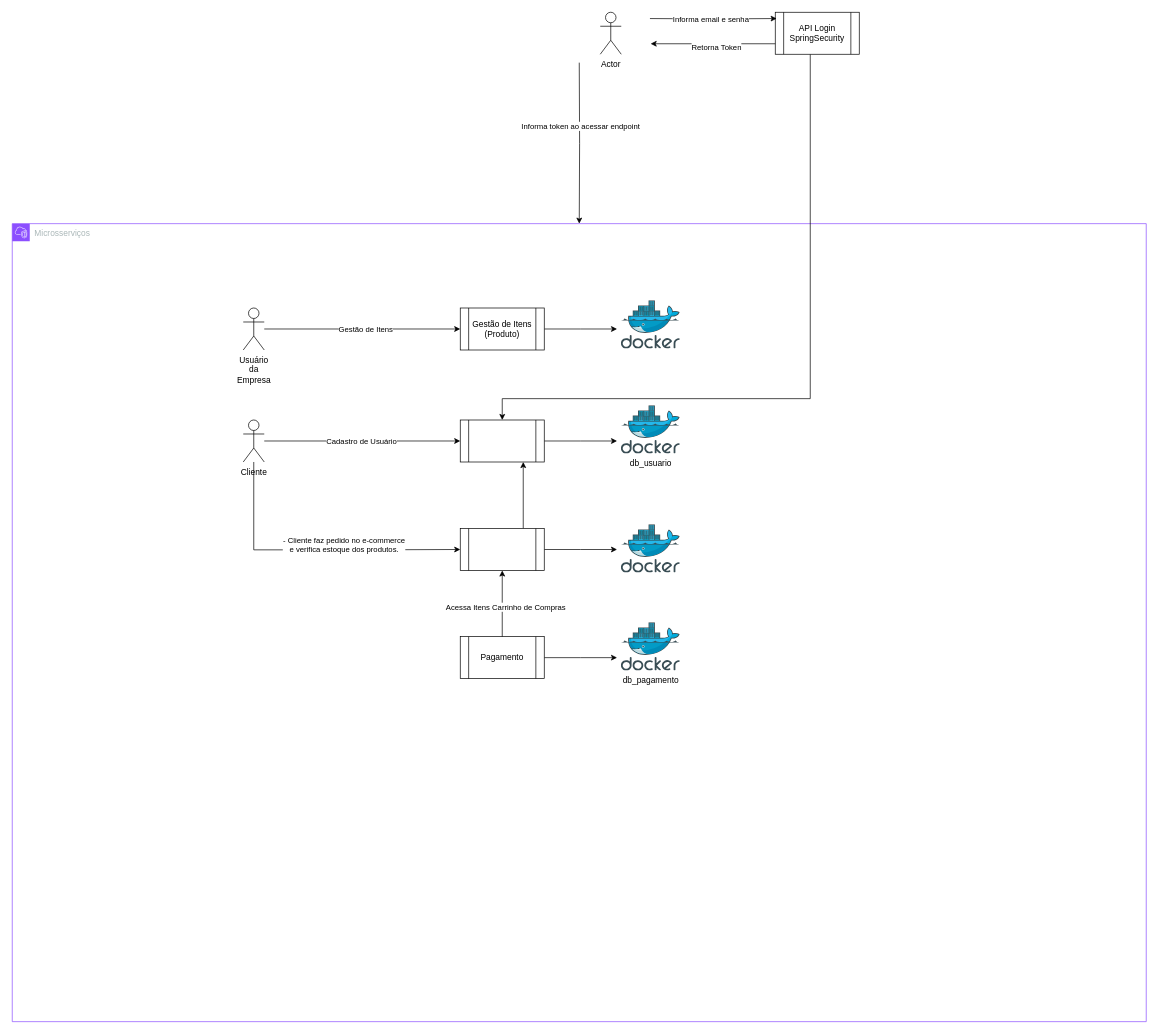
The diagram is 1159 pixels wide and 1034 high, and some of its shapes have lost their labels. The centre of each missing label's shape, as x and y in pixels:
Carrinho de Compras (Pedidos): pixel 502 549
db_carrinho_compras: pixel 650 548
db_gestao_itens: pixel 650 324
Usuário (Cliente): pixel 502 440
